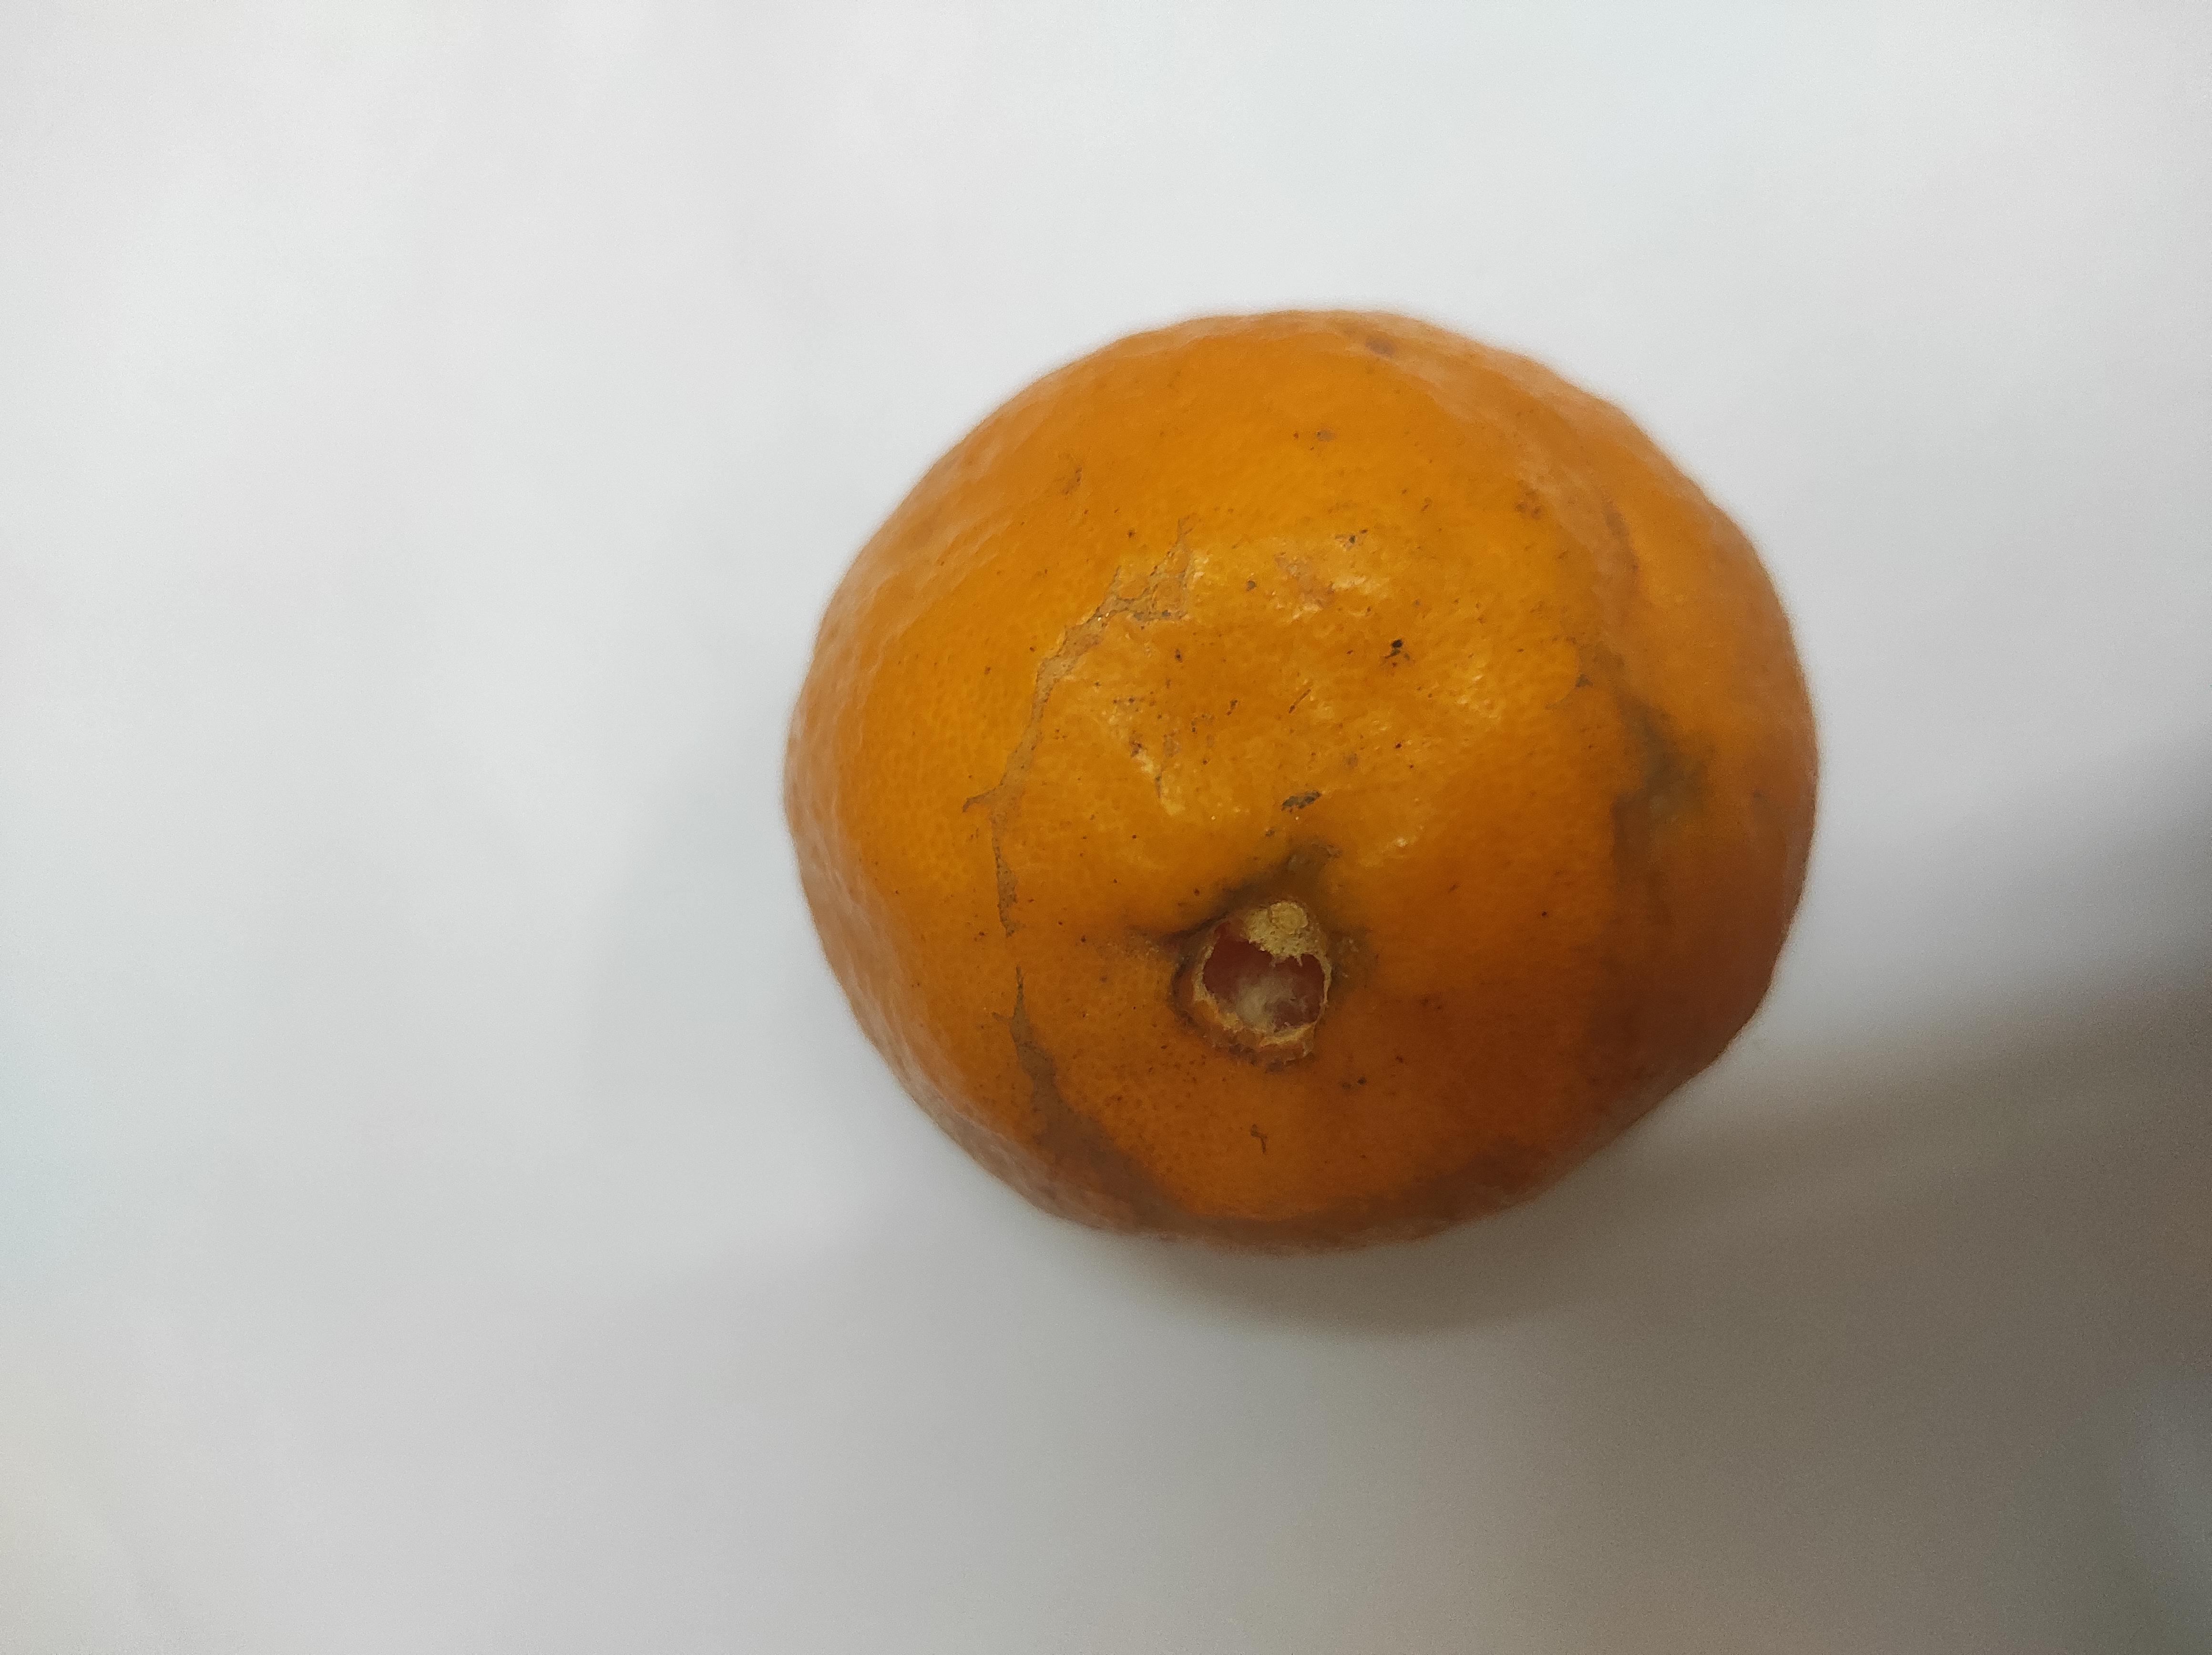Unripe: (796, 315, 1816, 1240)
